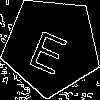E: (26, 21, 74, 76)
